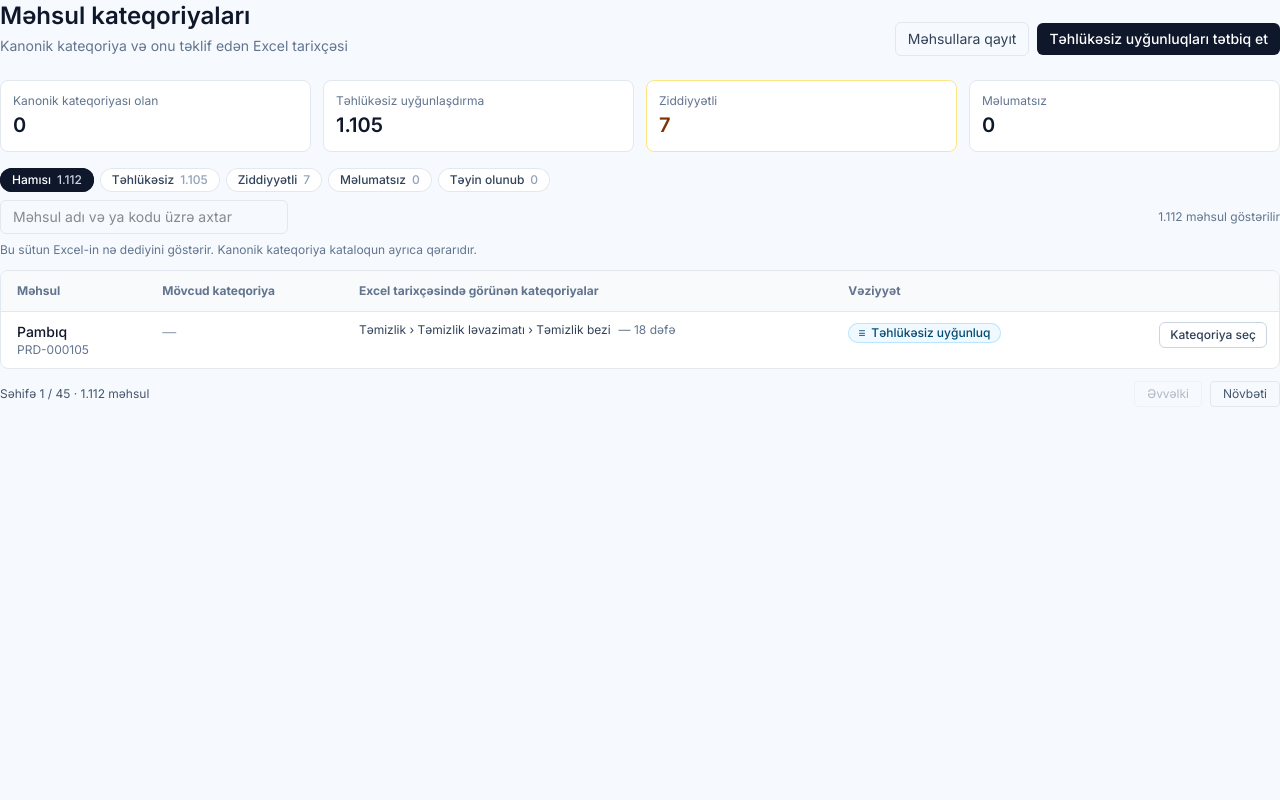
Scenario: the bulk action › shows what it will and will not touch before it writes anything
Expected: the text "Kanonik kateqoriyası olan" is shown, [13, 93, 158, 108]
Click the button "Təhlükəsiz uyğunluqları tətbiq et": coordinates (1159, 39) [1037, 23, 1279, 55]
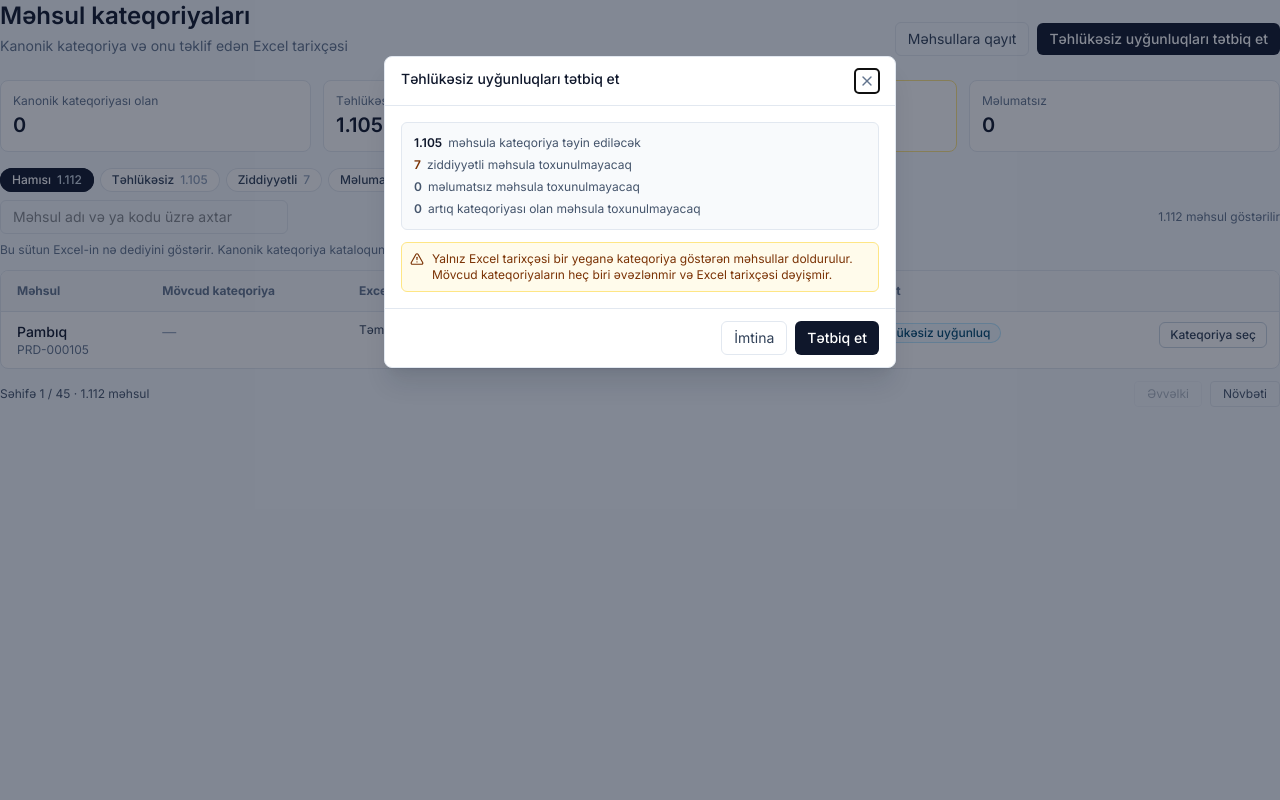
Result: the text "məhsula kateqoriya təyin ediləcək" is shown at [448, 135, 641, 151]
Result: the text "1.105" is shown at [414, 135, 442, 151]
Result: the text "ziddiyyətli məhsula toxunulmayacaq" is shown at [427, 157, 632, 173]
